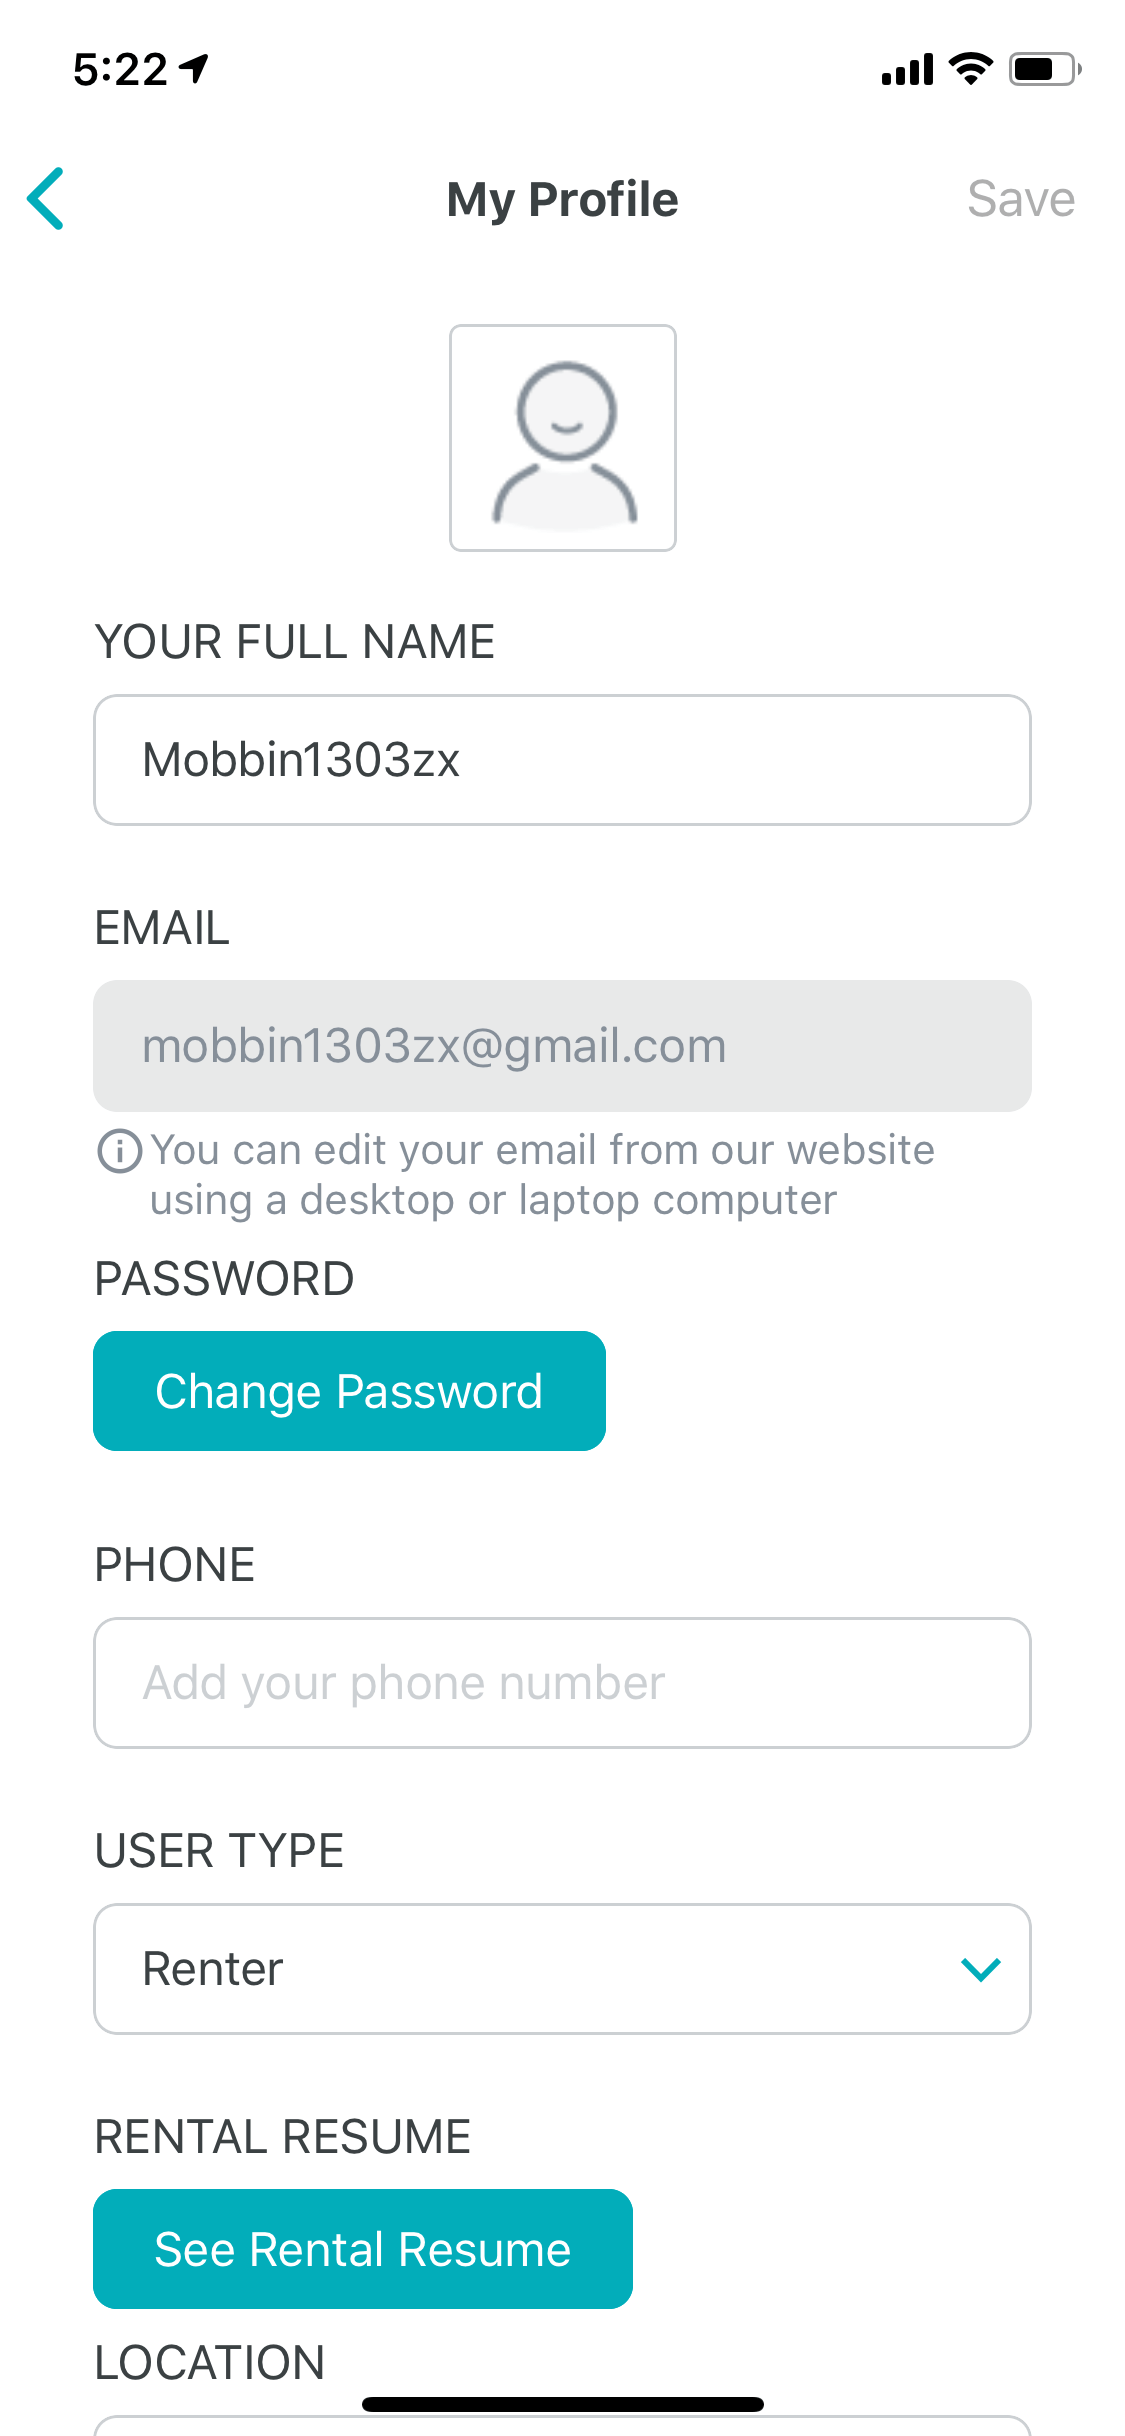Buttons: (78, 1313, 646, 1481), (79, 2173, 646, 2337), (915, 135, 1108, 259), (2, 137, 120, 256)
Text Fields: (75, 1522, 1046, 1776), (67, 598, 1050, 842), (75, 1811, 1043, 2051), (70, 886, 1044, 1119)
